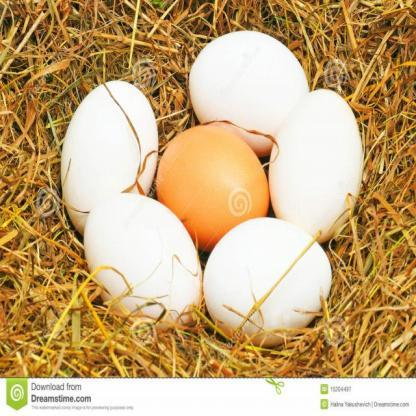egg: (74, 190, 210, 353), (200, 212, 352, 351), (264, 63, 375, 248), (60, 62, 166, 238), (174, 19, 318, 148), (158, 105, 277, 246)
